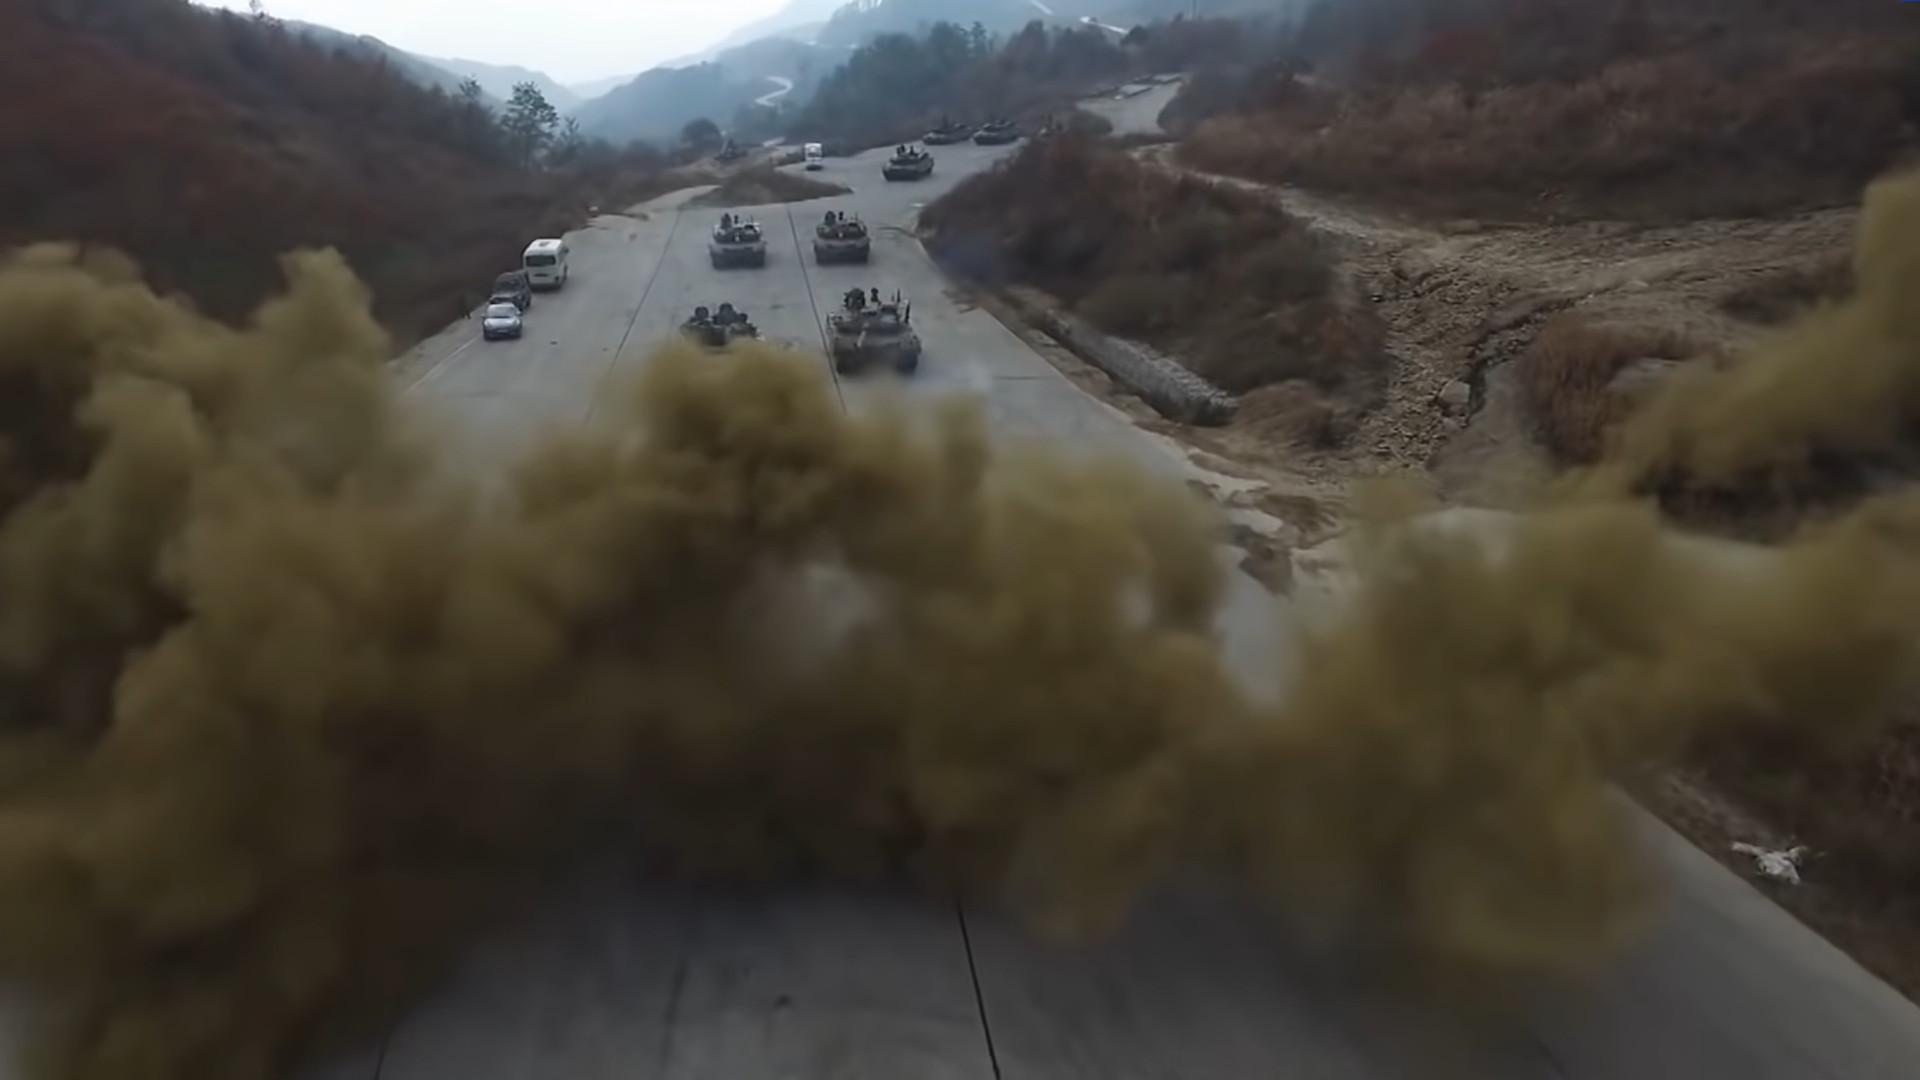tank: (824, 286, 923, 376), (707, 214, 767, 268), (814, 210, 869, 264)
